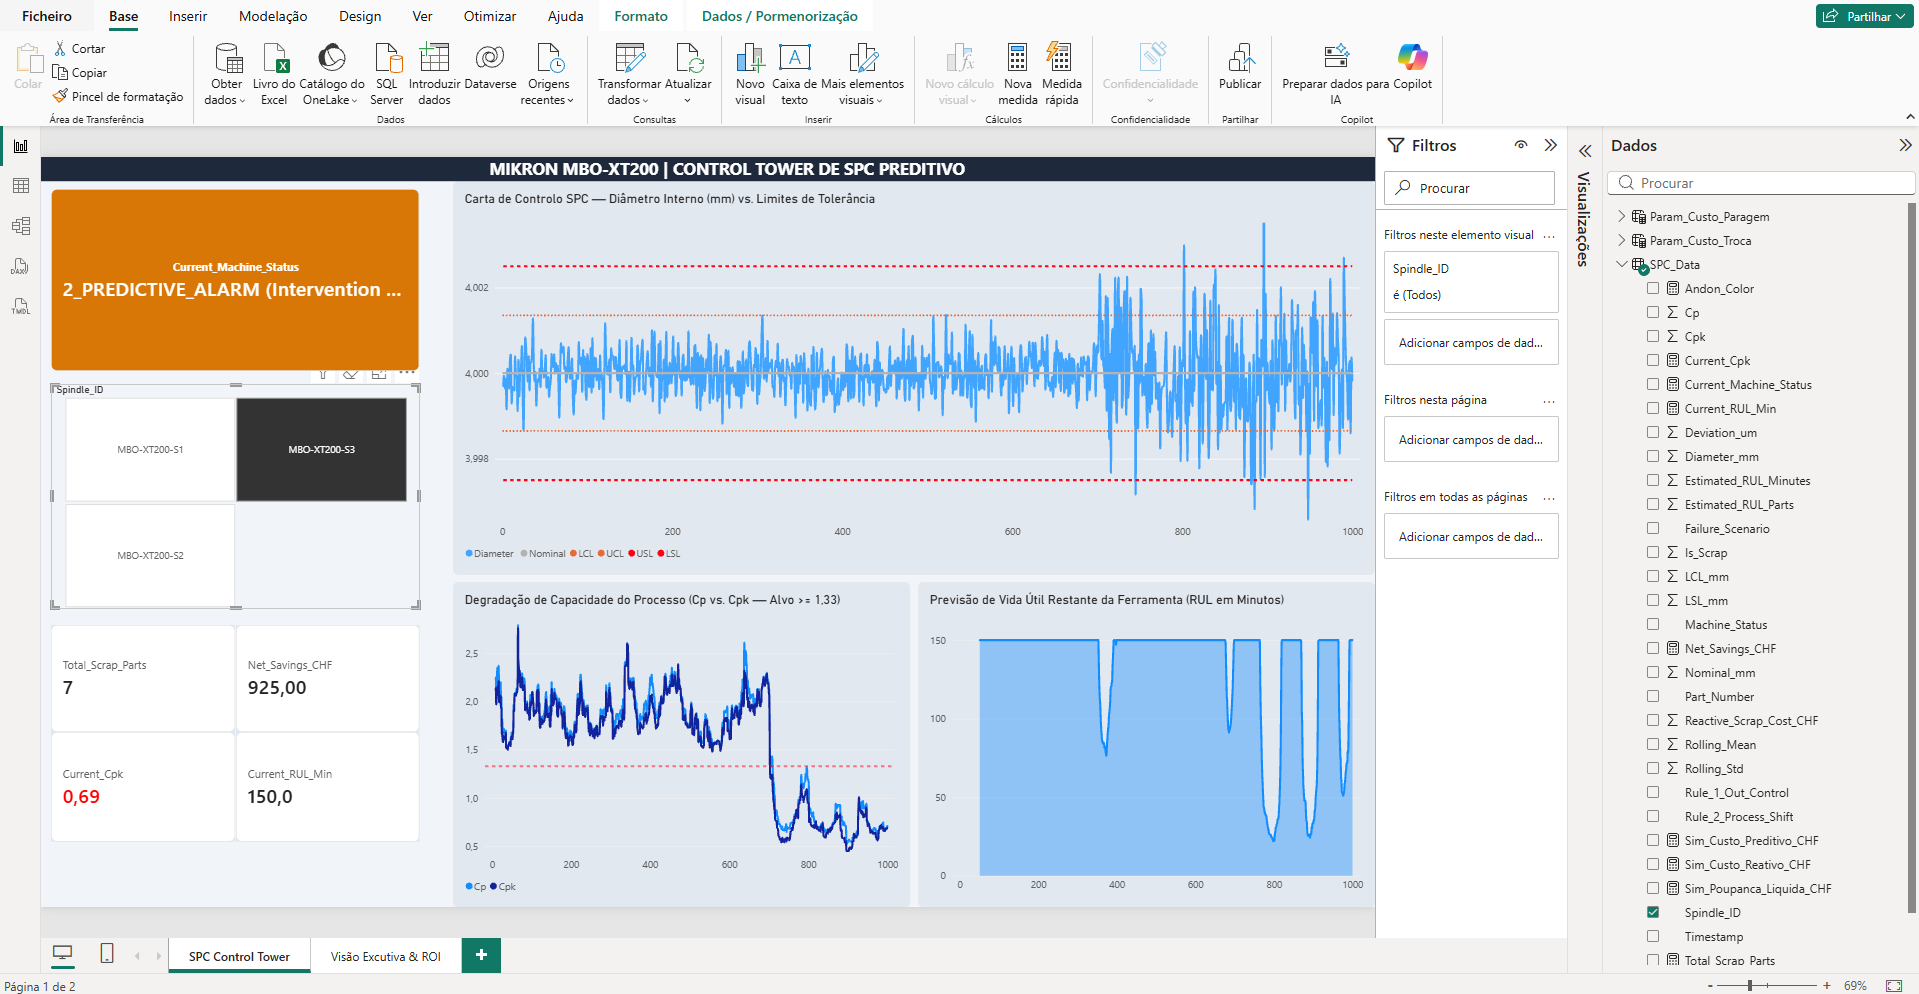

The page's visual inventory and layout, read from the dashboard file:
{"tool":"powerbi","page":{"name":"SPC Control Tower","canvas":[1920,1080],"ordinal":0},"visuals":[{"type":"slicer","fields":{"Values":["SPC_Data.Spindle_ID"]},"box":[14.7,327.2,530.9,323.1],"z":0},{"type":"cardVisual","fields":{"Data":["SPC_Data.Current_Cpk"]},"box":[14.7,827.3,265.5,158.2],"z":1000},{"type":"cardVisual","fields":{"Data":["SPC_Data.Net_Savings_CHF"]},"box":[280.2,673.1,264.1,154.2],"z":2000},{"type":"cardVisual","fields":{"Data":["SPC_Data.Total_Scrap_Parts"]},"box":[14.7,673.1,265.5,154.2],"z":3000},{"type":"cardVisual","fields":{"Data":["SPC_Data.Current_RUL_Min"]},"box":[280.2,827.3,264.1,158.2],"z":4000},{"type":"lineChart","title":"Carta de Controlo SPC — Diâmetro Interno (mm) vs. Limites de Tolerância","fields":{"Category":["SPC_Data.Part_Number"],"Y":["Avg(SPC_Data.Diameter_mm)","Avg(SPC_Data.Nominal_mm)","Avg(SPC_Data.LCL_mm)","Avg(SPC_Data.UCL_mm)","Avg(SPC_Data.USL_mm)","Avg(SPC_Data.LSL_mm)"]},"box":[592.6,34.9,1327.4,567.2],"z":5000},{"type":"lineChart","title":"Degradação de Capacidade do Processo (Cp vs. Cpk — Alvo >= 1,33)","fields":{"Category":["SPC_Data.Part_Number"],"Y":["Avg(SPC_Data.Cp)","Avg(SPC_Data.Cpk)"]},"box":[592.6,611.4,658.3,469.3],"z":6000},{"type":"areaChart","title":"Previsão de Vida Útil Restante da Ferramenta (RUL em Minutos)","fields":{"Category":["SPC_Data.Part_Number"],"Y":["Avg(SPC_Data.Estimated_RUL_Minutes)"]},"box":[1261.7,611.4,658.3,467.9],"z":7000},{"type":"cardVisual","fields":{"Data":["SPC_Data.Current_Machine_Status"]},"box":[14.7,45.6,530.9,262.8],"z":8000},{"type":"shape","box":[0,0,1920,34.9],"z":9000},{"type":"textbox","box":[530.9,0,913.1,34.9],"z":10000}]}

Visuals, with their boxes on the page's 1920x1080 design canvas (x1, y1, x2, y2). These are canvas units, not pixel positions in the 1919x994 screenshot, which may show the page scaled, cropped or inside an application window:
slicer - SPC_Data.Spindle_ID: bbox(15, 327, 546, 650)
cardVisual - SPC_Data.Current_Cpk: bbox(15, 827, 280, 986)
cardVisual - SPC_Data.Net_Savings_CHF: bbox(280, 673, 544, 827)
cardVisual - SPC_Data.Total_Scrap_Parts: bbox(15, 673, 280, 827)
cardVisual - SPC_Data.Current_RUL_Min: bbox(280, 827, 544, 986)
"Carta de Controlo SPC — Diâmetro Interno (mm) vs. Limites de Tolerância" lineChart: bbox(593, 35, 1920, 602)
"Degradação de Capacidade do Processo (Cp vs. Cpk — Alvo >= 1,33)" lineChart: bbox(593, 611, 1251, 1081)
"Previsão de Vida Útil Restante da Ferramenta (RUL em Minutos)" areaChart: bbox(1262, 611, 1920, 1079)
cardVisual - SPC_Data.Current_Machine_Status: bbox(15, 46, 546, 308)
shape: bbox(0, 0, 1920, 35)
textbox: bbox(531, 0, 1444, 35)
